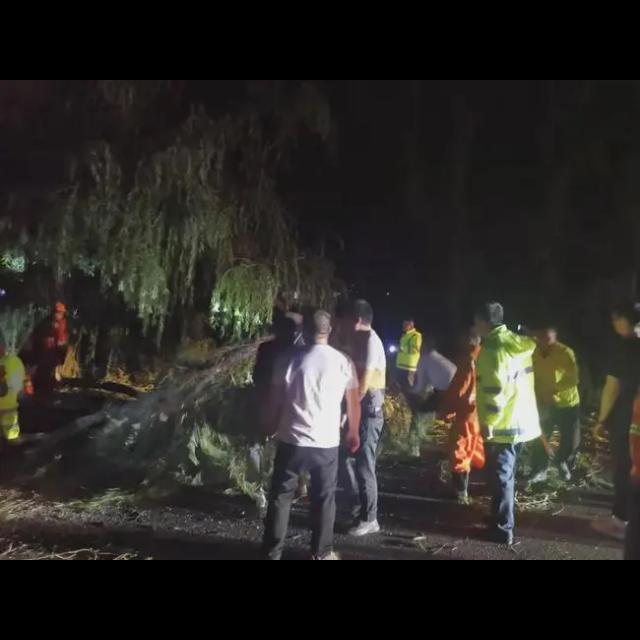fallen_tree: (17, 322, 284, 504)
